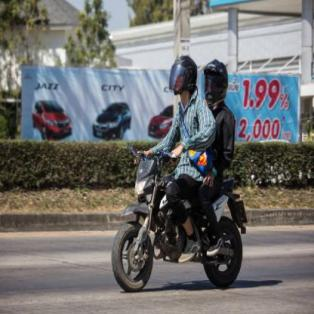Motocicleta: (108, 146, 245, 295)
